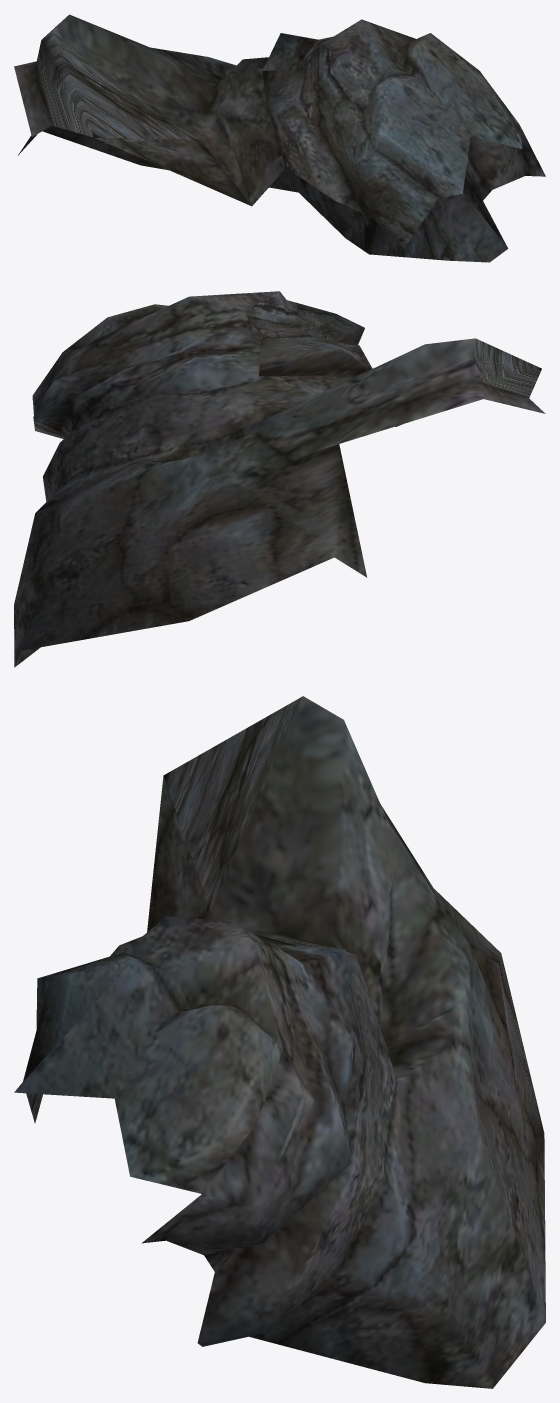
Rendered from S_Rock_Yellow034_H15.FBX.
3 views of the same model, one above another, from view 1: azimuth 30°, elevation 25°; view 2: azimuth 150°, elevation 25°; view 3: azimuth 270°, elevation 25° (orthographic). The views are drawn at different scales.
Parts seen in each view (by area): view 1: S_Rock_Yellow034_H15; view 2: S_Rock_Yellow034_H15; view 3: S_Rock_Yellow034_H15.
Boxes of the visible parts, box(x1,y1,x2,y2) form: S_Rock_Yellow034_H15: box(14, 14, 545, 262); S_Rock_Yellow034_H15: box(14, 291, 545, 667); S_Rock_Yellow034_H15: box(14, 696, 545, 1388).
Size of the model in its own units: 915 by 665 by 632.
Materials: 1 (1 with a texture image).
